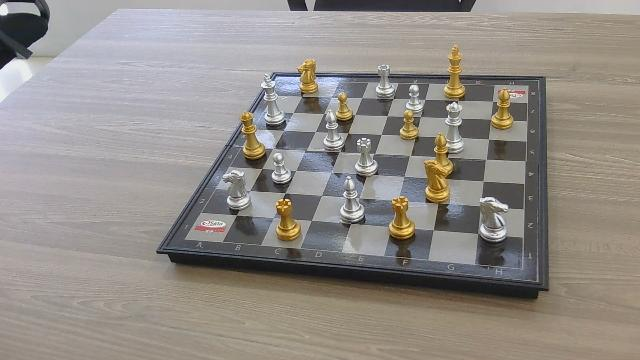black_bishop: (491, 87, 515, 130)
black_king: (443, 42, 466, 98)
black_knight: (298, 53, 319, 94), (425, 159, 445, 201)
black_pawn: (400, 109, 420, 141), (335, 91, 355, 122)
black_queen: (237, 109, 265, 158)
black_rook: (274, 198, 302, 242), (389, 196, 417, 240)
white_bishop: (340, 175, 368, 225), (322, 109, 344, 151)
white_king: (259, 69, 286, 126)
white_knight: (477, 194, 511, 243), (220, 168, 253, 210)
white_pawn: (270, 153, 293, 182), (407, 83, 423, 111)
white_queen: (446, 101, 463, 151)
white_rook: (355, 138, 378, 176), (375, 64, 396, 98)
